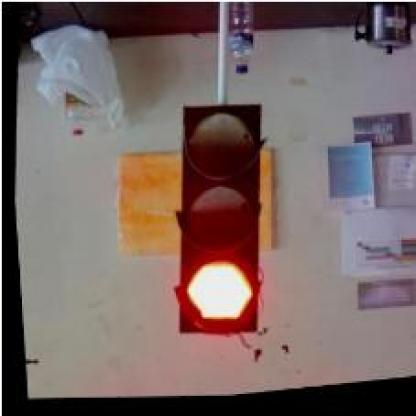red: (159, 104, 273, 344)
